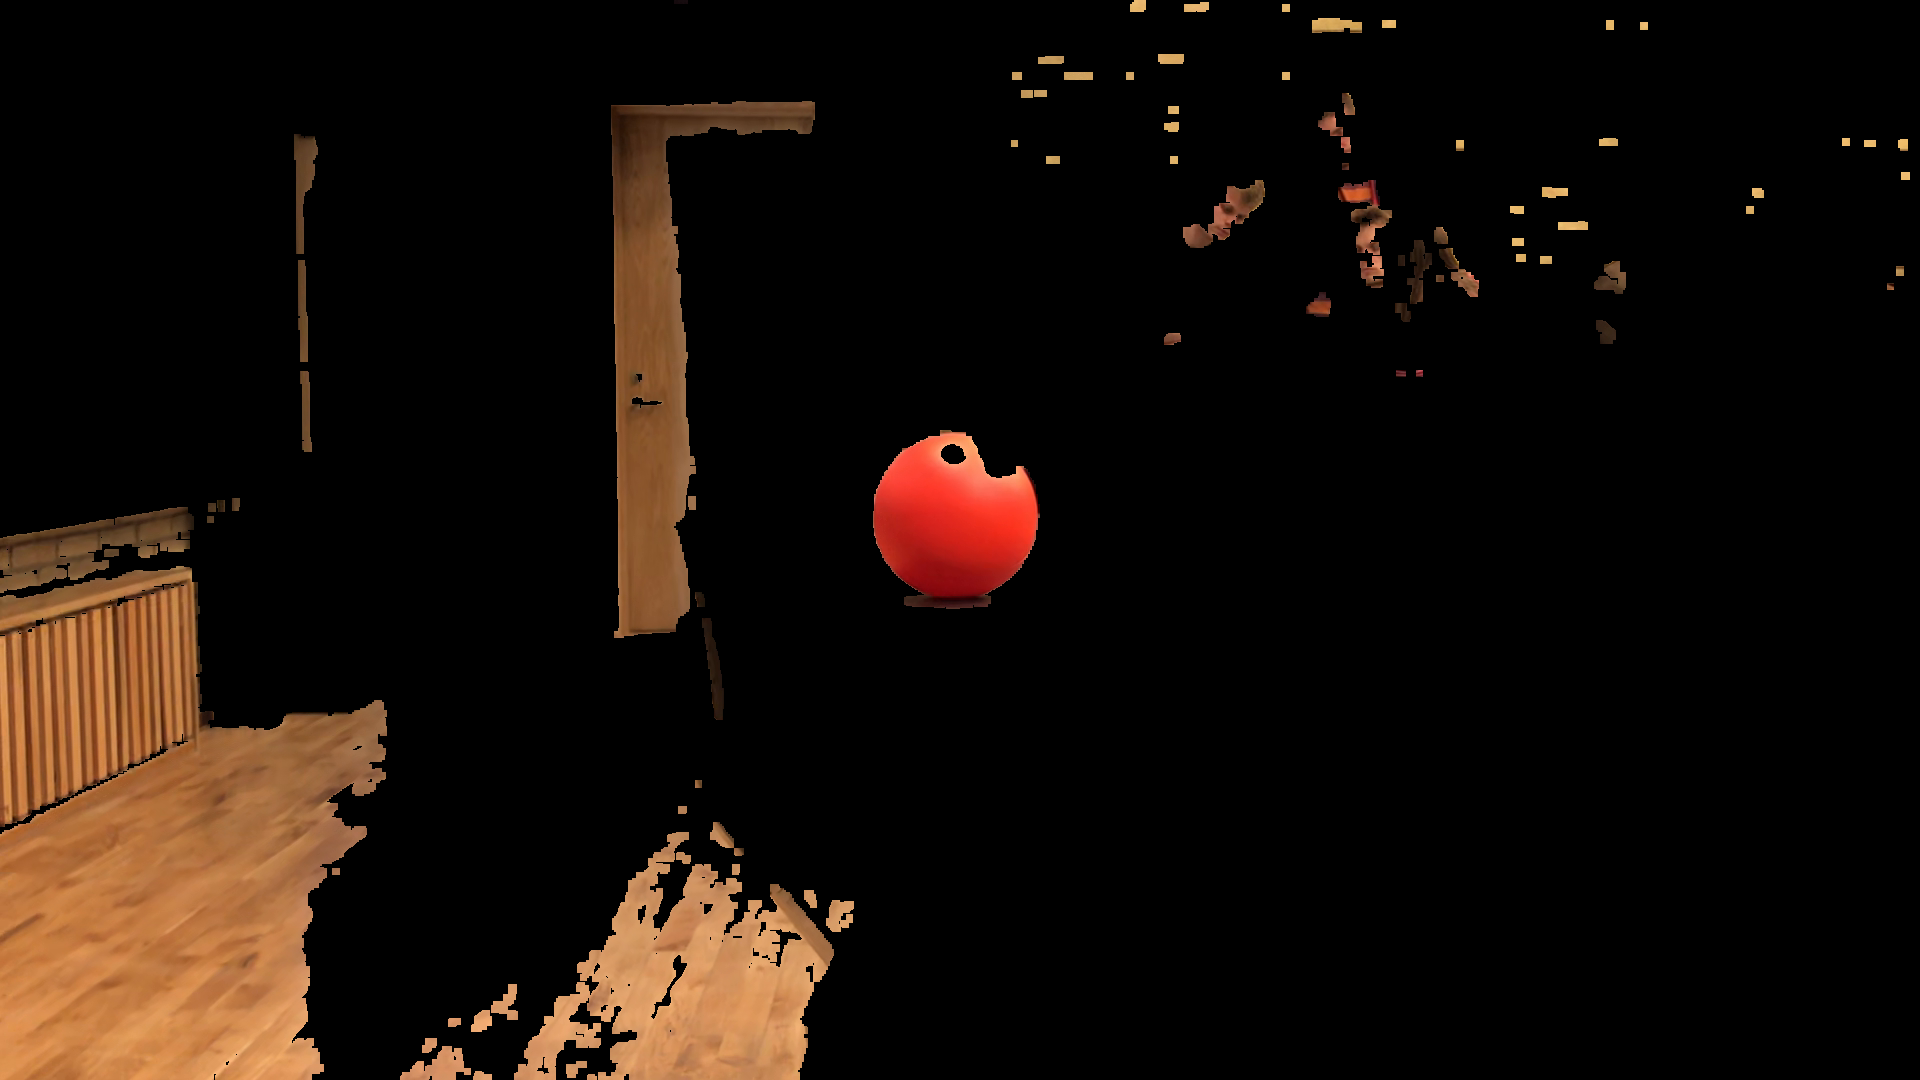Ball: (873, 430, 1046, 600)
